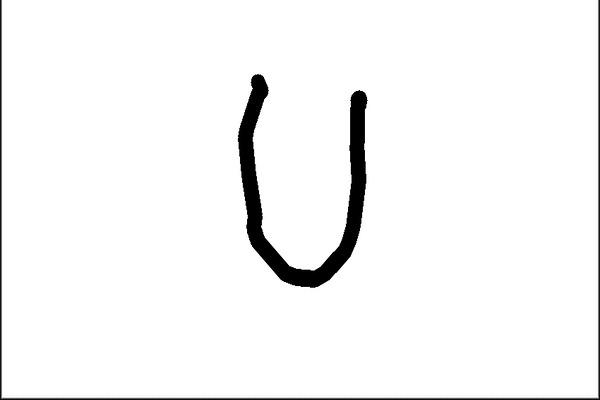U: (227, 65, 381, 291)
